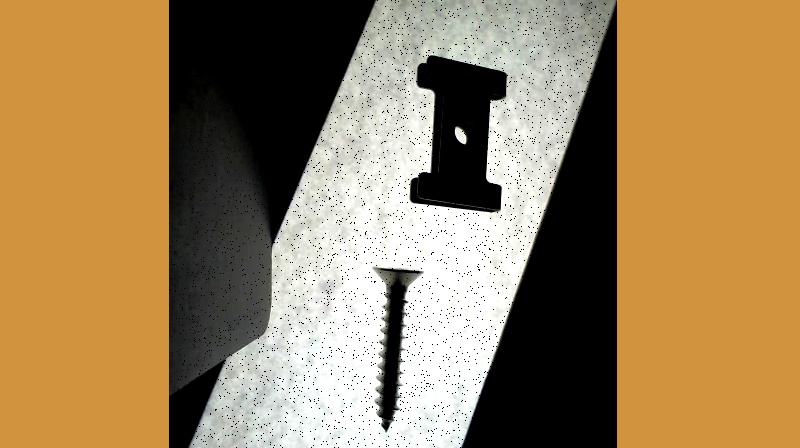O002: (408, 52, 504, 219)
S001: (371, 263, 424, 433)
